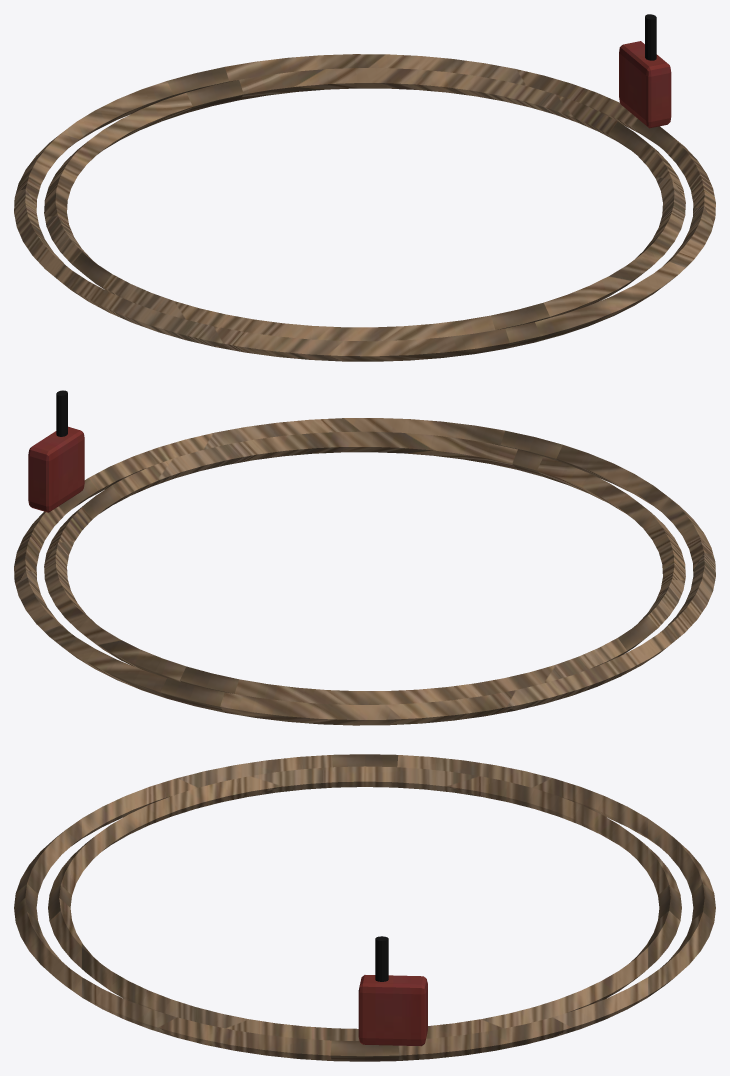
The model's file is TY31_ToyTrainTrack.glb.
3 views of the same model, one above another, from view 1: azimuth 30°, elevation 25°; view 2: azimuth 150°, elevation 25°; view 3: azimuth 270°, elevation 25° (orthographic).
Visible parts, largest first — view 1: TY31_ToyTrainTrack; view 2: TY31_ToyTrainTrack; view 3: TY31_ToyTrainTrack.
Boxes of the visible parts, x1=… form: TY31_ToyTrainTrack: x1=14, y1=14, x2=715, y2=361; TY31_ToyTrainTrack: x1=14, y1=390, x2=715, y2=725; TY31_ToyTrainTrack: x1=14, y1=754, x2=715, y2=1061.
Size of the model in its own units: 1.5 by 0.2887 by 1.49.
3 materials, 3 textured.
